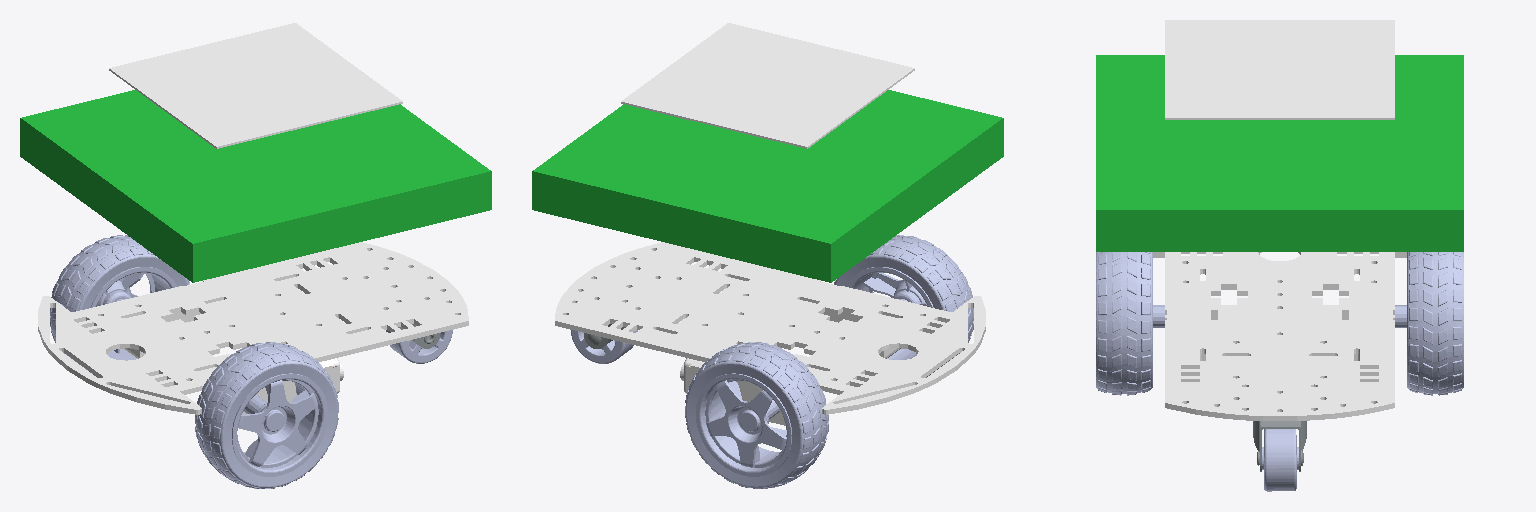
URDF robot description (car1_apriltag):
<?xml version="1.0"?>
<robot name="car1_apriltag">
  <material name="tag_white"><color rgba="1 1 1 1" /></material>
  <material name="cart_body"><color rgba="1 1 1 0.35" /></material>
  <material name="wheel_light"><color rgba="0.79216 0.81961 0.93333 1" /></material>
  <material name="caster_gray"><color rgba="0.63922 0.66667 0.67843 1" /></material>
  <material name="delivery_green"><color rgba="0.2 0.8 0.3 0.7" /></material>

  <link name="tag_carrito1">
    <visual name="apriltag_plate">
      <geometry><box size="0.10 0.10 0.001" /></geometry>
      <material name="tag_white" />
    </visual>
    <collision name="apriltag_collision">
      <geometry><box size="0.10 0.10 0.001" /></geometry>
    </collision>
  </link>

  <joint name="tag_carrito1_to_car1_base" type="fixed">
    <parent link="tag_carrito1" />
    <child link="car1_base_link" />
    <origin xyz="0.00 0.00 -0.12" rpy="0 0 0" />
  </joint>

  <link name="car1_base_link">
    <inertial>
      <origin xyz="0.0100845530400964 -0.0000078763397840 -0.00660483212224633" rpy="0 0 0" />
      <mass value="0.128593928056721" />
      <inertia ixx="0.0000521456588109" ixy="0.0" ixz="0.0" iyy="0.000179567040468821" iyz="0.0" izz="0.00022799348701614" />
    </inertial>
    <visual>
      <origin xyz="0 0 0" rpy="0 0 0" />
      <geometry><mesh filename="package://burger_description/visual/Carro2/meshes/base_link.STL" /></geometry>
      <material name="cart_body" />
    </visual>
    <collision>
      <origin xyz="0.02 0 -0.02" rpy="0 0 0" />
      <geometry><box size="0.25 0.20 0.10" /></geometry>
    </collision>
  </link>

  <joint name="car1_Rueda_izquierda_Joint" type="continuous">
    <origin xyz="-0.033259 0.08025 -0.01375" rpy="-1.5708 0.042481 0" />
    <parent link="car1_base_link" />
    <child link="car1_Rueda_izquierda_Link" />
    <axis xyz="0 0 1" />
    <limit effort="100" velocity="100" />
    <dynamics damping="0.1" friction="0.1" />
  </joint>
  <link name="car1_Rueda_izquierda_Link">
    <inertial>
      <origin xyz="0 0 -0.011873" rpy="0 0 0" />
      <mass value="0.021404" />
      <inertia ixx="0.0000086283" ixy="0.0" ixz="0.0" iyy="0.0000086269" iyz="0.0" izz="0.000014515" />
    </inertial>
    <visual>
      <geometry><mesh filename="package://burger_description/visual/Carro2/meshes/Rueda_izquierda_Link.STL" /></geometry>
      <material name="wheel_light" />
    </visual>
    <collision>
      <geometry><mesh filename="package://burger_description/visual/Carro2/meshes/Rueda_izquierda_Link.STL" /></geometry>
    </collision>
  </link>

  <joint name="car1_Rueda_derecha_Joint" type="continuous">
    <origin xyz="-0.033259 -0.08025 -0.01375" rpy="1.5708 0.042481 -3.1416" />
    <parent link="car1_base_link" />
    <child link="car1_Rueda_derecha_Link" />
    <axis xyz="0 0 1" />
    <limit effort="100" velocity="100" />
    <dynamics damping="0.1" friction="0.1" />
  </joint>
  <link name="car1_Rueda_derecha_Link">
    <inertial>
      <origin xyz="0 0 0.011873" rpy="0 0 0" />
      <mass value="0.021404" />
      <inertia ixx="0.0000086283" ixy="0.0" ixz="0.0" iyy="0.0000086269" iyz="0.0" izz="0.000014515" />
    </inertial>
    <visual>
      <geometry><mesh filename="package://burger_description/visual/Carro2/meshes/Rueda_derecha_Link.STL" /></geometry>
      <material name="wheel_light" />
    </visual>
    <collision>
      <geometry><mesh filename="package://burger_description/visual/Carro2/meshes/Rueda_derecha_Link.STL" /></geometry>
    </collision>
  </link>

  <joint name="car1_Base_rueda_castor_Joint" type="continuous">
    <origin xyz="0.072581 0 -0.0025" rpy="3.1416 0 0" />
    <parent link="car1_base_link" />
    <child link="car1_Base_rueda_castor_Link" />
    <axis xyz="0 0 1" />
    <limit effort="100" velocity="100" />
    <dynamics damping="0.1" friction="0.1" />
  </joint>
  <link name="car1_Base_rueda_castor_Link">
    <inertial>
      <origin xyz="0.0076868 -0.00024426 0.013506" rpy="0 0 0" />
      <mass value="0.013786" />
      <inertia ixx="0.0000012468" ixy="0.0" ixz="-0.00000024805" iyy="0.0000013131" iyz="0.0" izz="0.0000016977" />
    </inertial>
    <visual>
      <geometry><mesh filename="package://burger_description/visual/Carro2/meshes/Base_rueda_castor_Link.STL" /></geometry>
      <material name="caster_gray" />
    </visual>
    <collision>
      <geometry><mesh filename="package://burger_description/visual/Carro2/meshes/Base_rueda_castor_Link.STL" /></geometry>
    </collision>
  </link>

  <joint name="car1_Rueda_castor_Joint" type="continuous">
    <origin xyz="0.015014 -0.00014167 0.02296" rpy="1.5708 -1.5708 0" />
    <parent link="car1_Base_rueda_castor_Link" />
    <child link="car1_Rueda_castor_Link" />
    <axis xyz="0 0 1" />
    <limit effort="100" velocity="100" />
    <dynamics damping="0.1" friction="0.1" />
  </joint>
  <link name="car1_Rueda_castor_Link">
    <inertial>
      <origin xyz="0 0 0" rpy="0 0 0" />
      <mass value="0.0082874" />
      <inertia ixx="0.00000063927" ixy="0.0" ixz="0.0" iyy="0.0000006393" iyz="0.0" izz="0.0000010111" />
    </inertial>
    <visual>
      <geometry><mesh filename="package://burger_description/visual/Carro2/meshes/Rueda_castor_Link.STL" /></geometry>
      <material name="wheel_light" />
    </visual>
    <collision>
      <geometry><mesh filename="package://burger_description/visual/Carro2/meshes/Rueda_castor_Link.STL" /></geometry>
    </collision>
  </link>

  <joint name="car1_base_to_delivery_tray" type="fixed">
    <parent link="car1_base_link" />
    <child link="car1_delivery_tray_frame" />
    <origin xyz="0.00 0.00 0.08" rpy="0 0 0" />
  </joint>
  <link name="car1_delivery_tray_frame">
    <visual>
      <geometry><box size="0.16 0.16 0.02" /></geometry>
      <material name="delivery_green" />
    </visual>
    <collision>
      <geometry><box size="0.16 0.16 0.02" /></geometry>
    </collision>
    <inertial>
      <origin xyz="0 0 0" rpy="0 0 0" />
      <mass value="0.05" />
      <inertia ixx="0.0001083" ixy="0.0" ixz="0.0" iyy="0.0001083" iyz="0.0" izz="0.0002133" />
    </inertial>
  </link>
</robot>

--- Facts derived from the render (not from the file) ---
3 views of the same robot in one strip: view 1: azimuth 30°, elevation 25°; view 2: azimuth 150°, elevation 25°; view 3: azimuth 270°, elevation 25° (orthographic).
Robot: car1_apriltag — 7 links, 6 joints (4 continuous, 2 fixed); root link tag_carrito1; default pose: every joint at zero.
Visible links, largest first — view 1: car1_delivery_tray_frame, car1_base_link, tag_carrito1, car1_Rueda_derecha_Link, car1_Rueda_izquierda_Link, car1_Rueda_castor_Link; view 2: car1_delivery_tray_frame, car1_base_link, tag_carrito1, car1_Rueda_izquierda_Link, car1_Rueda_derecha_Link, car1_Rueda_castor_Link; view 3: car1_delivery_tray_frame, car1_base_link, tag_carrito1, car1_Rueda_izquierda_Link, car1_Rueda_derecha_Link, car1_Rueda_castor_Link, car1_Base_rueda_castor_Link.
Link boxes in pixels (<box>): car1_delivery_tray_frame: <box>20,90,491,282</box>; car1_base_link: <box>38,242,468,414</box>; tag_carrito1: <box>109,23,402,148</box>; car1_Rueda_derecha_Link: <box>195,342,338,488</box>; car1_Rueda_izquierda_Link: <box>50,235,189,377</box>; car1_Rueda_castor_Link: <box>386,330,452,363</box>; car1_delivery_tray_frame: <box>532,90,1003,282</box>; car1_base_link: <box>555,242,985,425</box>; tag_carrito1: <box>621,23,914,148</box>; car1_Rueda_izquierda_Link: <box>685,342,828,488</box>; car1_Rueda_derecha_Link: <box>834,235,973,377</box>; car1_Rueda_castor_Link: <box>571,330,637,363</box>; car1_delivery_tray_frame: <box>1096,55,1463,251</box>; car1_base_link: <box>1153,252,1406,420</box>; tag_carrito1: <box>1165,20,1394,119</box>; car1_Rueda_izquierda_Link: <box>1395,252,1463,395</box>; car1_Rueda_derecha_Link: <box>1096,252,1164,395</box>; car1_Rueda_castor_Link: <box>1262,429,1298,491</box>; car1_Base_rueda_castor_Link: <box>1253,421,1306,471</box>.
Size in the robot's own frame: 0.2029 by 0.1605 by 0.1687 metres.
5 mesh visuals loaded from 5 distinct referenced files (5 binary STL).
